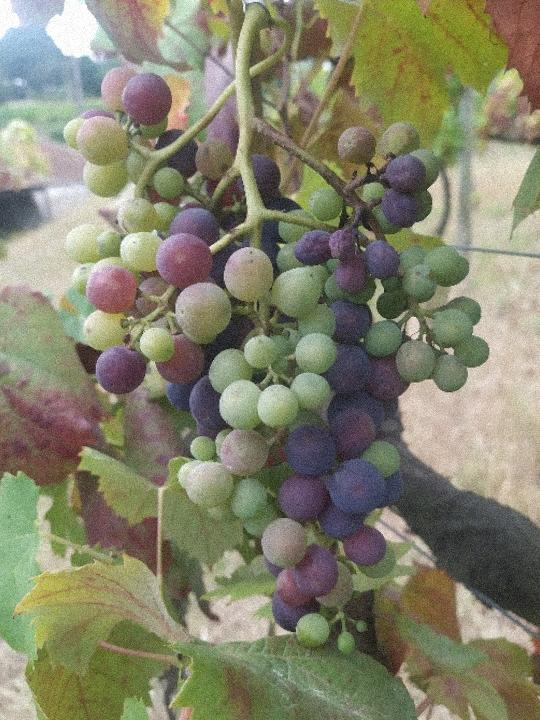grape: (61, 62, 493, 657)
